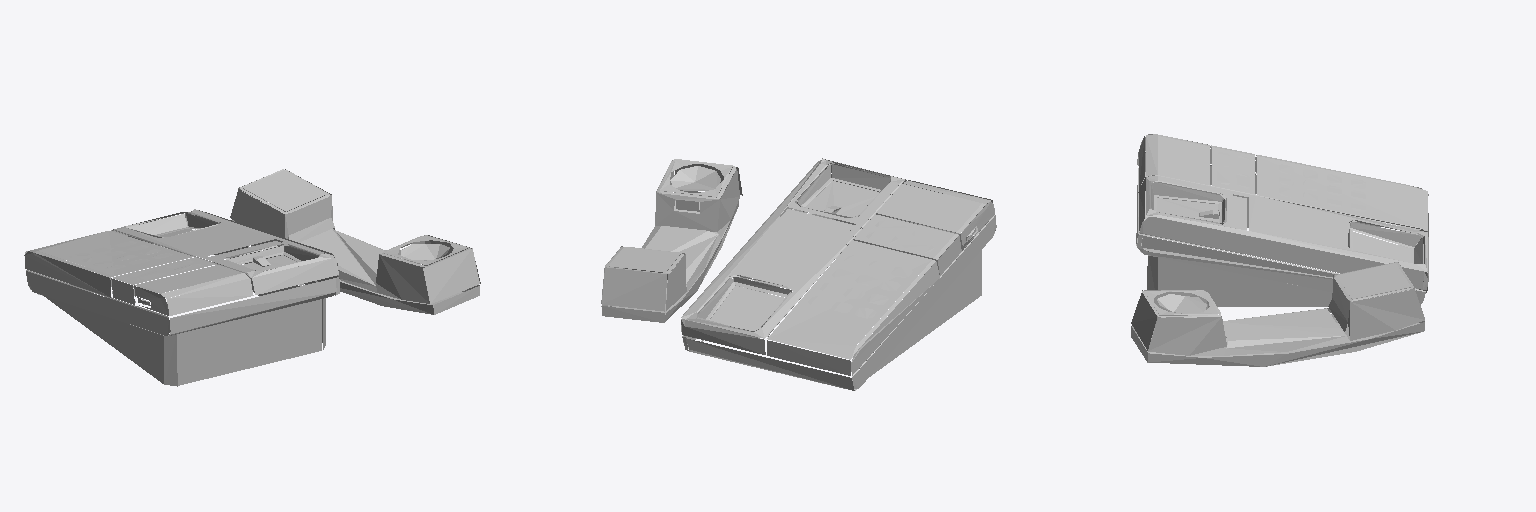
Rendered from Telefono.obj.
3 views of the same model, side by side, from view 1: azimuth 30°, elevation 25°; view 2: azimuth 150°, elevation 25°; view 3: azimuth 270°, elevation 25° (orthographic).
Visible parts, largest first — view 1: Phone_01_-_Default_0; view 2: Phone_01_-_Default_0; view 3: Phone_01_-_Default_0.
Boxes of the visible parts, x1=… form: Phone_01_-_Default_0: x1=24, y1=169, x2=480, y2=386; Phone_01_-_Default_0: x1=601, y1=158, x2=996, y2=390; Phone_01_-_Default_0: x1=1131, y1=134, x2=1428, y2=366.
Size of the model in its own units: 29.77 by 8.36 by 24.25.